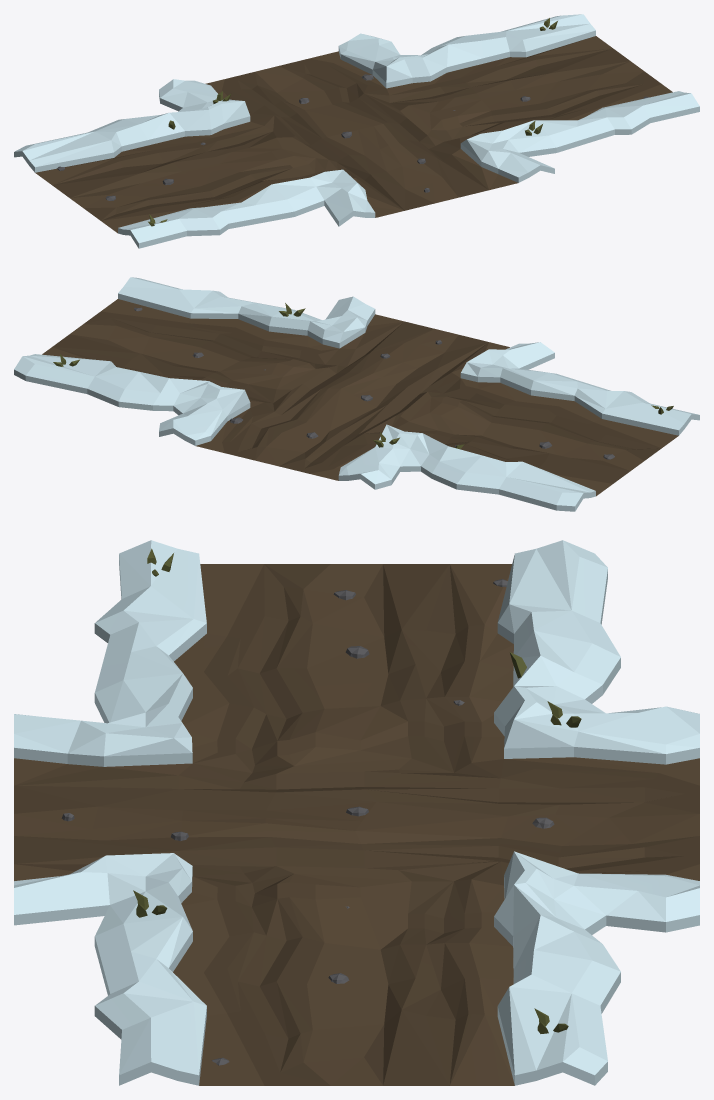
File: SM_Env_Road_Cross_01_Snow.gltf
3 views of the same model, one above another, from view 1: azimuth 30°, elevation 25°; view 2: azimuth 150°, elevation 25°; view 3: azimuth 270°, elevation 25° (orthographic). The views are drawn at different scales.
Visible parts, largest first — view 1: SM_Env_Road_Cross_01_Snow; view 2: SM_Env_Road_Cross_01_Snow; view 3: SM_Env_Road_Cross_01_Snow.
Part boxes in pixels (x1=…): SM_Env_Road_Cross_01_Snow: x1=14, y1=14, x2=699, y2=248; SM_Env_Road_Cross_01_Snow: x1=14, y1=277, x2=699, y2=511; SM_Env_Road_Cross_01_Snow: x1=14, y1=540, x2=699, y2=1085.
Bounding box in the file's own units: 9 × 0.4179 × 5.
Materials: 1 (1 with a texture image).
